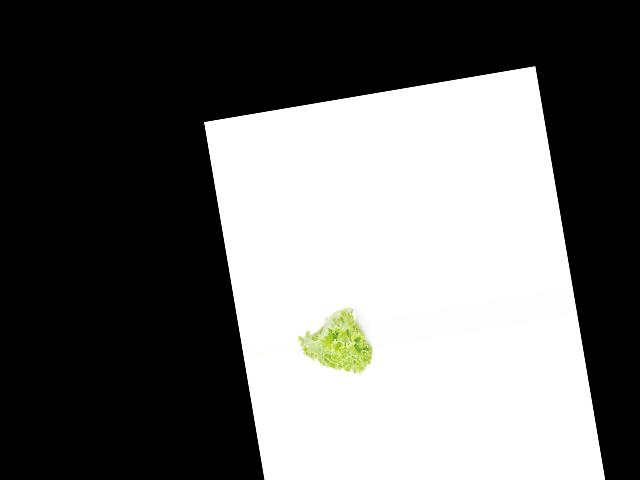lettuce: (291, 300, 376, 387)
